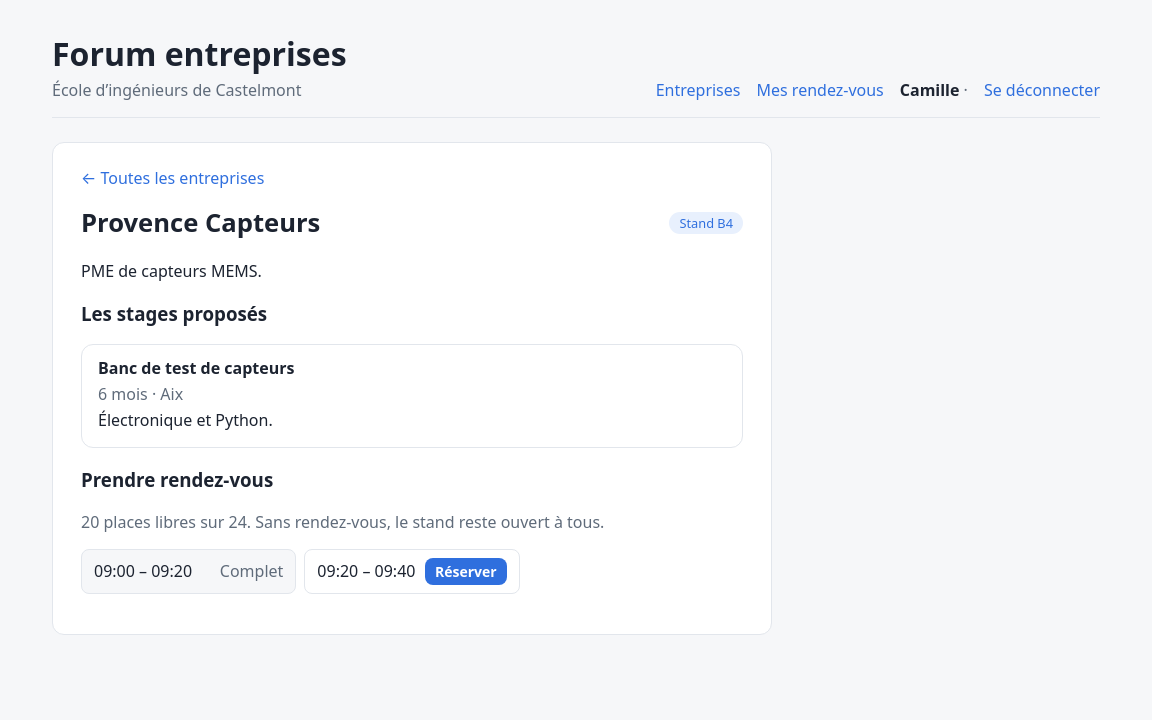
Test: CompanyPage › shows the rule the API refused the booking with
Click the button "Réserver": click(466, 571) x1=425 y1=558 x2=507 y2=585
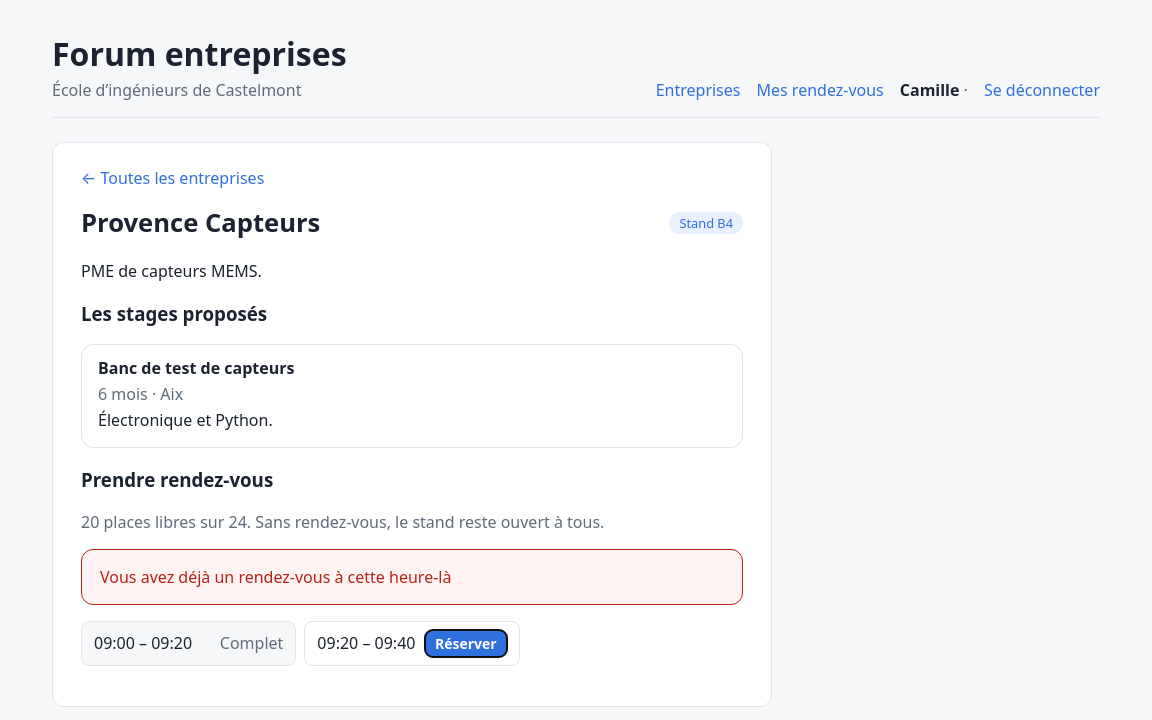
Expected: the message reads "Vous avez déjà un rendez-vous à cette heure-là", x1=100 y1=566 x2=451 y2=588
